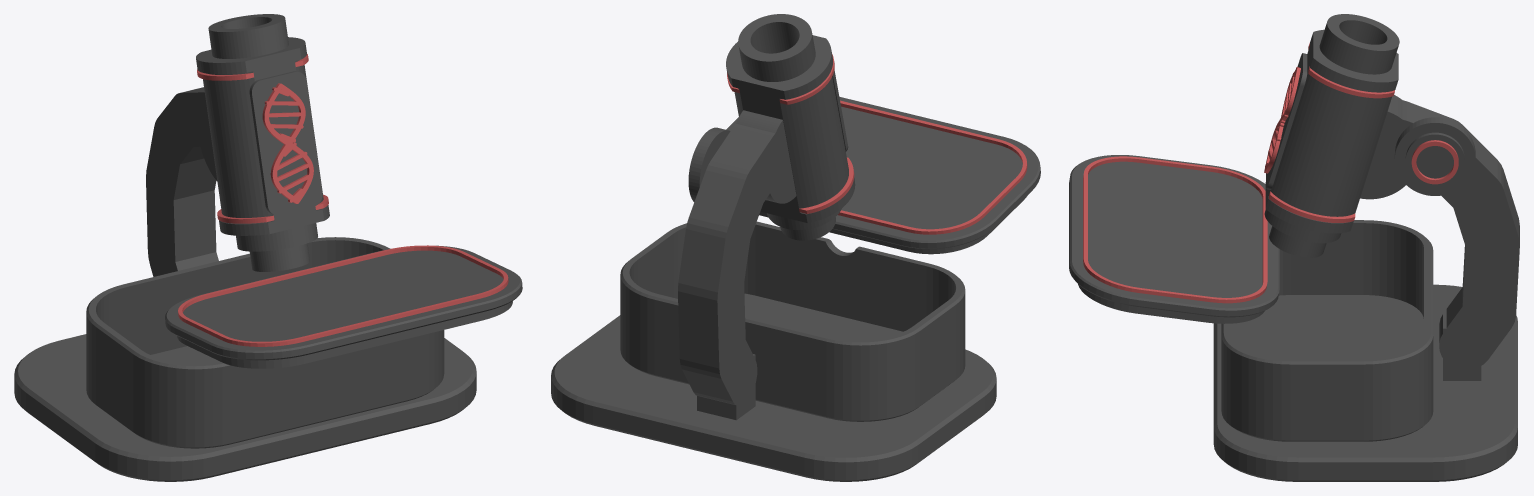
The model's file is biologia-aperto.glb.
3 views of the same model, side by side, from view 1: azimuth 30°, elevation 25°; view 2: azimuth 150°, elevation 25°; view 3: azimuth 270°, elevation 25° (orthographic). The views are drawn at different scales.
Visible parts, largest first — view 1: 03_vaschetta, 04_coperchio_vaschetta, 01_piede, 02_arco, 06_tubo, 09_placca_DNA, 05_bordo_coperchio, 07_oculare, 10_DNA, 08_obiettivo; view 2: 03_vaschetta, 01_piede, 02_arco, 04_coperchio_vaschetta, 06_tubo, 07_oculare, 05_bordo_coperchio, 12_manopola, 08_obiettivo, 11_fascia_tubo_1_01; view 3: 03_vaschetta, 04_coperchio_vaschetta, 01_piede, 02_arco, 06_tubo, 12_manopola, 07_oculare, 05_bordo_coperchio, 08_obiettivo, 09_placca_DNA, 10_DNA, 13_anello_manopola (+2 smaller).
Part boxes in pixels (x1=…): 03_vaschetta: x1=86, y1=237, x2=444, y2=448; 04_coperchio_vaschetta: x1=165, y1=245, x2=522, y2=368; 01_piede: x1=14, y1=334, x2=476, y2=481; 02_arco: x1=146, y1=87, x2=218, y2=276; 06_tubo: x1=196, y1=37, x2=329, y2=235; 09_placca_DNA: x1=249, y1=71, x2=322, y2=215; 05_bordo_coperchio: x1=178, y1=245, x2=508, y2=346; 07_oculare: x1=208, y1=14, x2=288, y2=58; 10_DNA: x1=262, y1=83, x2=313, y2=203; 08_obiettivo: x1=236, y1=223, x2=317, y2=271; 03_vaschetta: x1=620, y1=221, x2=965, y2=421; 01_piede: x1=551, y1=315, x2=996, y2=481; 02_arco: x1=678, y1=110, x2=796, y2=420; 04_coperchio_vaschetta: x1=726, y1=96, x2=1040, y2=254; 06_tubo: x1=726, y1=35, x2=855, y2=223; 07_oculare: x1=738, y1=14, x2=815, y2=81; 05_bordo_coperchio: x1=838, y1=100, x2=1027, y2=234; 12_manopola: x1=688, y1=127, x2=730, y2=201; 08_obiettivo: x1=767, y1=208, x2=841, y2=240; 11_fascia_tubo_1_01: x1=799, y1=157, x2=854, y2=213; 03_vaschetta: x1=1221, y1=220, x2=1433, y2=441; 04_coperchio_vaschetta: x1=1069, y1=155, x2=1279, y2=323; 01_piede: x1=1213, y1=284, x2=1517, y2=481; 02_arco: x1=1360, y1=95, x2=1519, y2=380; 06_tubo: x1=1265, y1=29, x2=1398, y2=233; 12_manopola: x1=1394, y1=117, x2=1475, y2=195; 07_oculare: x1=1319, y1=14, x2=1399, y2=74; 05_bordo_coperchio: x1=1083, y1=156, x2=1267, y2=303; 08_obiettivo: x1=1264, y1=209, x2=1341, y2=257; 09_placca_DNA: x1=1266, y1=53, x2=1307, y2=189; 10_DNA: x1=1264, y1=67, x2=1300, y2=173; 13_anello_manopola: x1=1411, y1=140, x2=1458, y2=184.
Size of the model in its own units: 0.108 by 0.1067 by 0.1171.
